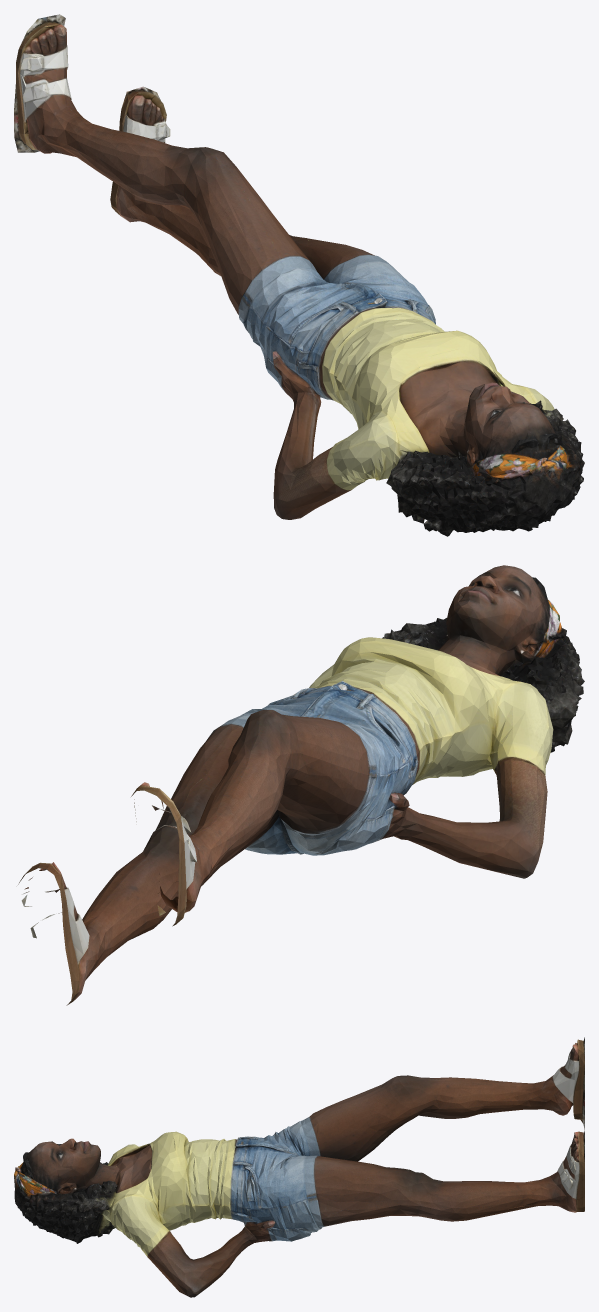
The model's file is drift-model-woman.glb.
3 renders of one model, top to bottom at view 1: azimuth 30°, elevation 25°; view 2: azimuth 150°, elevation 25°; view 3: azimuth 270°, elevation 25°, orthographic. The views are drawn at different scales.
Parts seen in each view (by area): view 1: default; view 2: default; view 3: default.
Part boxes in pixels (box(x1,y1,x2,y2)): default: box(14, 14, 584, 536); default: box(18, 565, 584, 1005); default: box(14, 1037, 584, 1297).
Size of the model in its own units: 0.6353 by 0.6213 by 1.69.
Materials: 1 (1 with a texture image).
